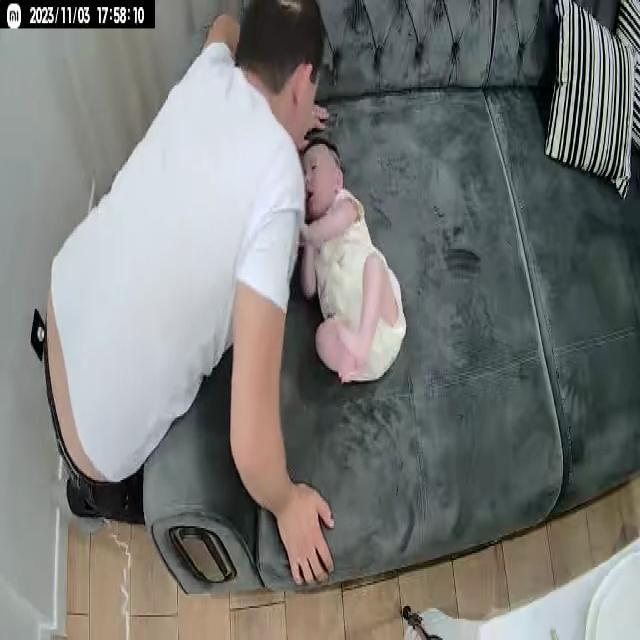baby: (291, 135, 411, 390)
